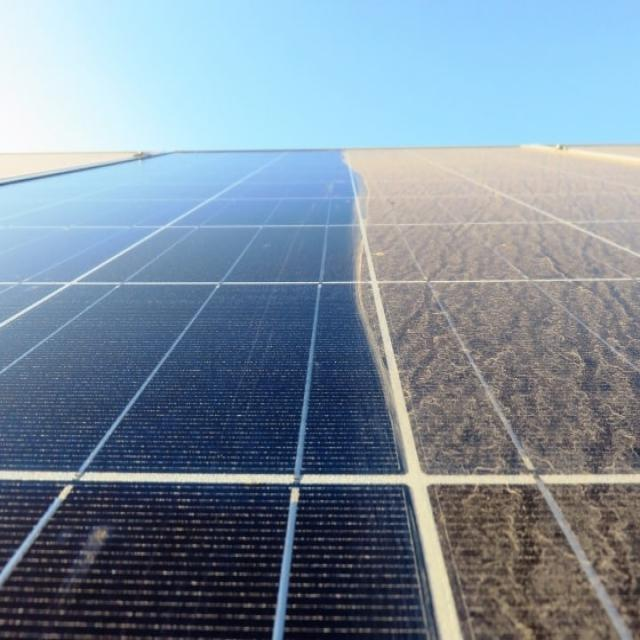dust-solar-panel: (350, 140, 640, 639)
